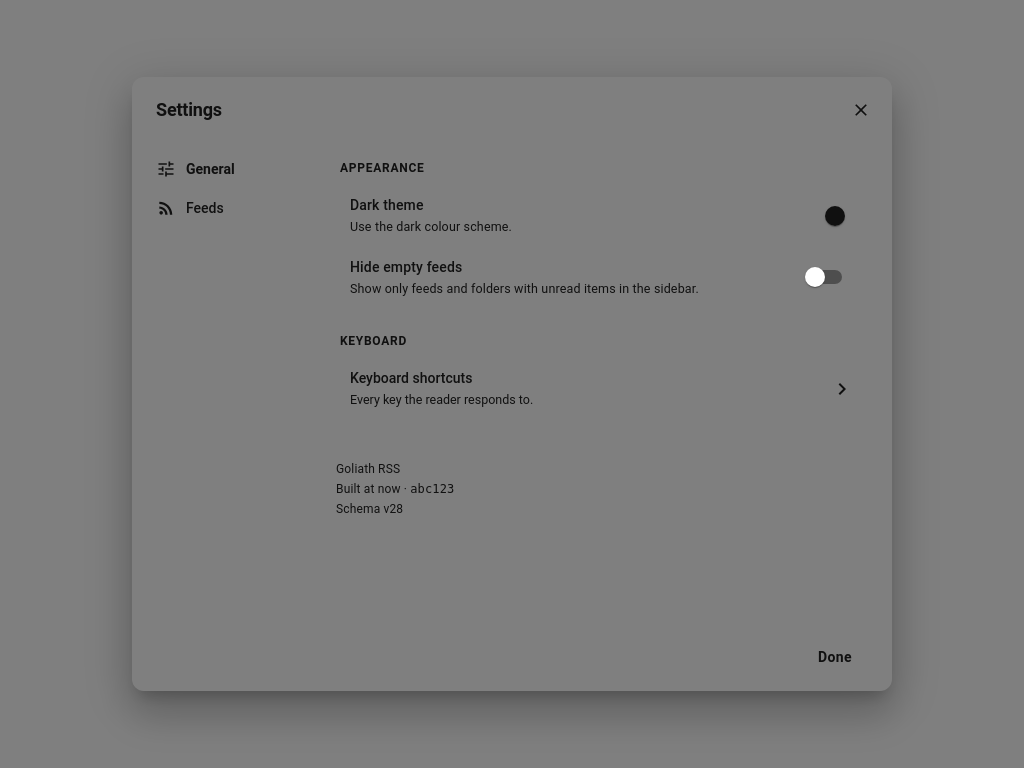
it: SettingsModal folders › refuses a folder name the server would read as an ID
Click the button "Feeds" at coordinates (222, 208), box [144, 190, 300, 227]
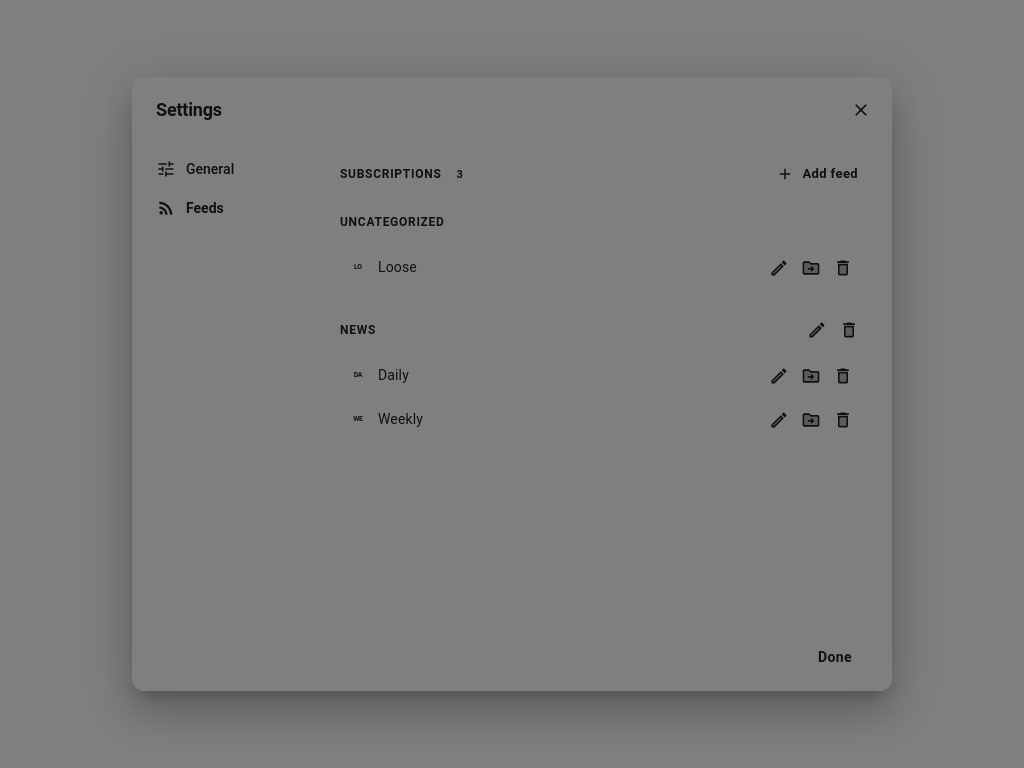
Click the button named "Rename folder News" at coordinates (817, 330), box [802, 314, 832, 344]
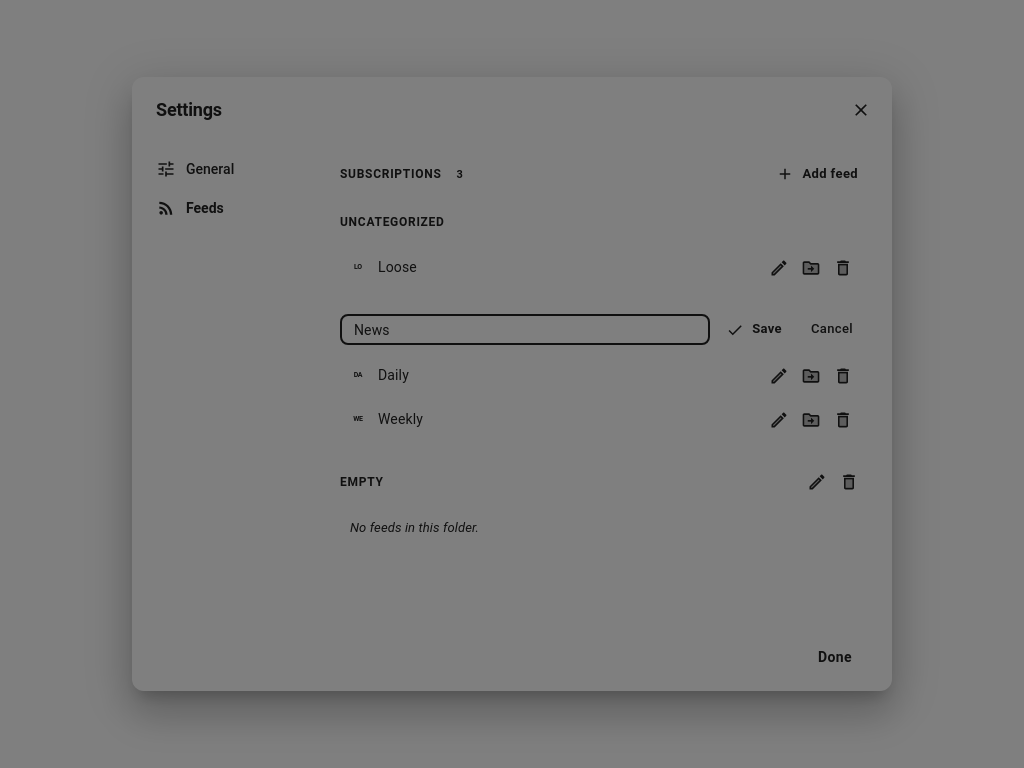
Replace the text in the field named "Folder name" with "42" at coordinates (525, 330), box [340, 320, 710, 340]
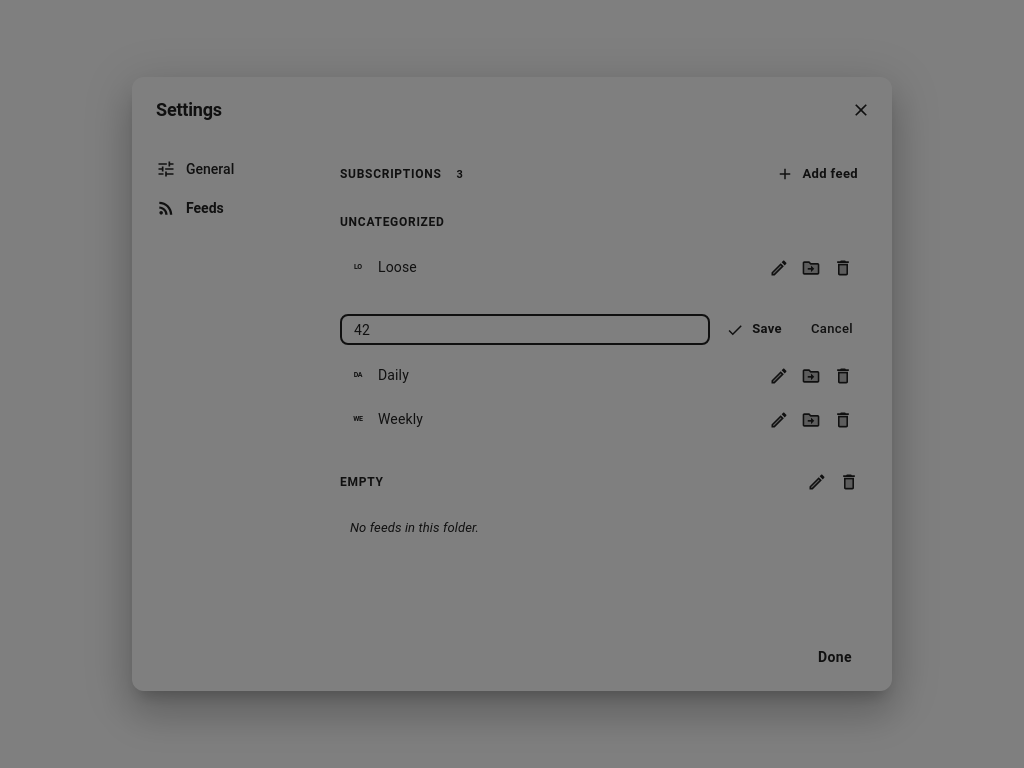
Click the button "Save" at coordinates (755, 330), box [718, 314, 792, 344]
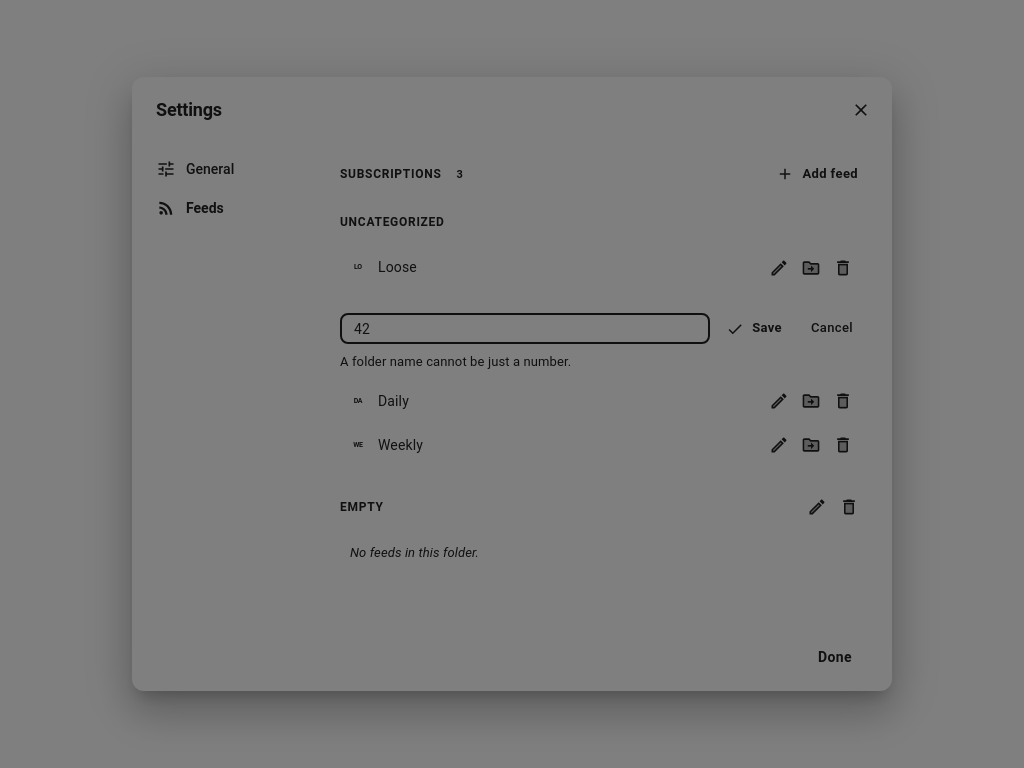
Now the text "A folder name cannot be just a number." is shown, box [340, 354, 571, 368]
